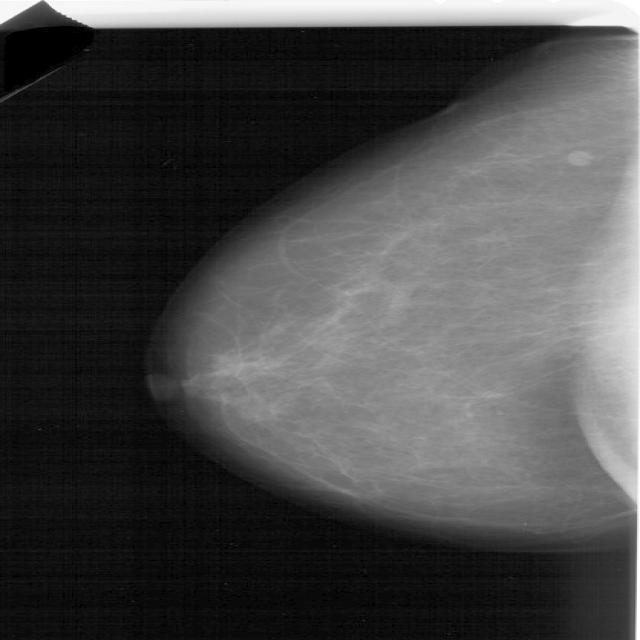tumour: (207, 350, 271, 380)
